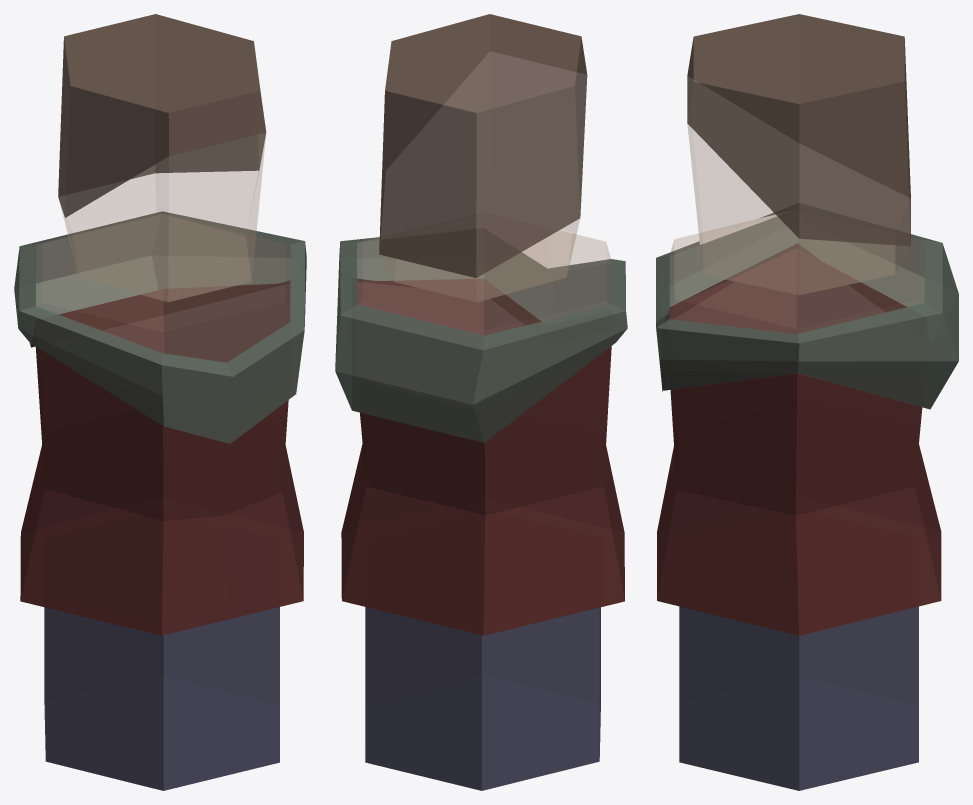
Rendered from Person1Fix.fbx.
The picture shows the model from 3 angles, left to right: view 1: azimuth 30°, elevation 25°; view 2: azimuth 150°, elevation 25°; view 3: azimuth 270°, elevation 25°; orthographic projection.
Parts seen in each view (by area): view 1: Person1; view 2: Person1; view 3: Person1.
Boxes of the visible parts, x1=… form: Person1: x1=14, y1=14, x2=306, y2=790; Person1: x1=335, y1=14, x2=627, y2=790; Person1: x1=656, y1=14, x2=958, y2=790.
Size of the model in its own units: 44.29 by 98.21 by 39.95.
